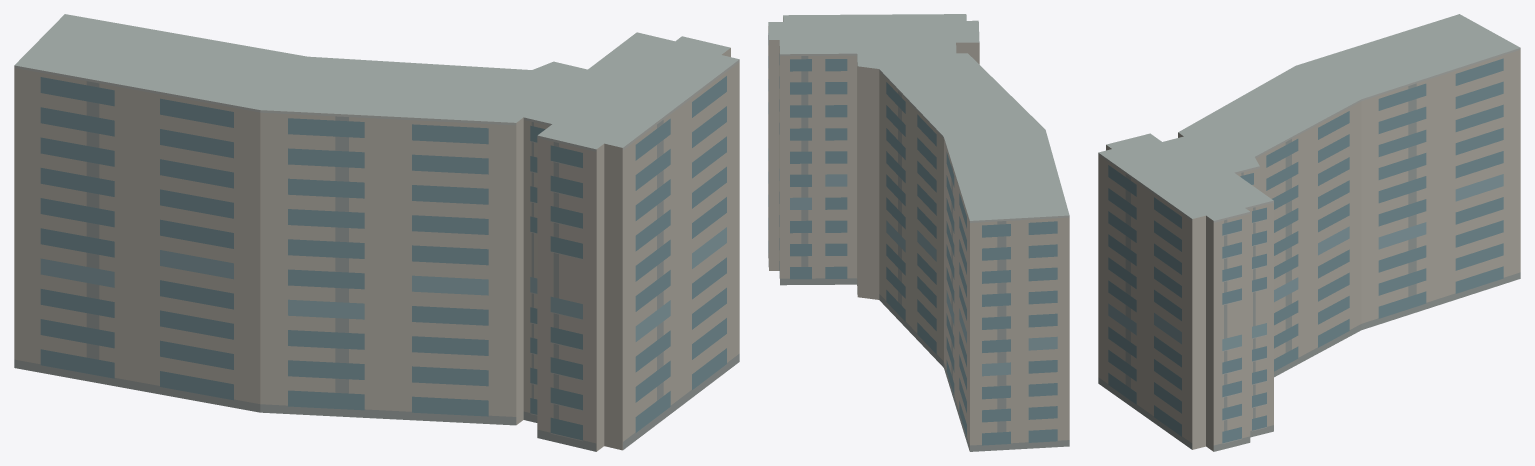
Rendered from residential-3750f97c-0c80-4b7b-9bd6-1deb911206f0.glb.
3 views of the same model, side by side, from view 1: azimuth 30°, elevation 25°; view 2: azimuth 150°, elevation 25°; view 3: azimuth 270°, elevation 25° (orthographic). The views are drawn at different scales.
Parts seen in each view (by area): view 1: residential-3750f97c-0c80-4b7b-9bd6-1deb911206f0.tmp; view 2: residential-3750f97c-0c80-4b7b-9bd6-1deb911206f0.tmp; view 3: residential-3750f97c-0c80-4b7b-9bd6-1deb911206f0.tmp.
Part boxes in pixels (x1,y1,x2,y2): residential-3750f97c-0c80-4b7b-9bd6-1deb911206f0.tmp: (14, 14, 739, 451); residential-3750f97c-0c80-4b7b-9bd6-1deb911206f0.tmp: (768, 14, 1069, 451); residential-3750f97c-0c80-4b7b-9bd6-1deb911206f0.tmp: (1098, 14, 1520, 451).
Size of the model in its own units: 55.75 by 29 by 48.09.
